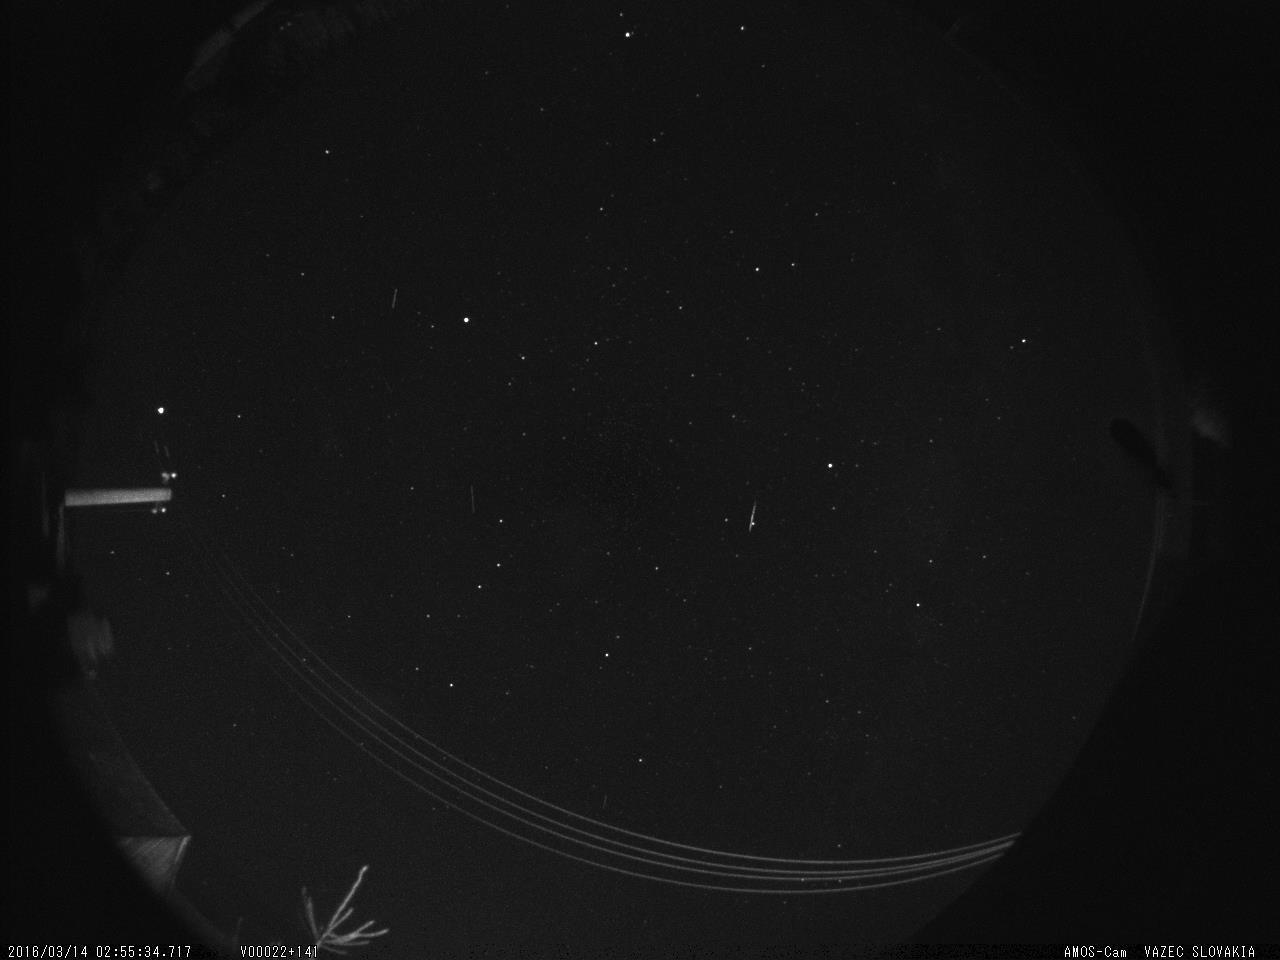Meteor: (742, 496, 764, 546)
